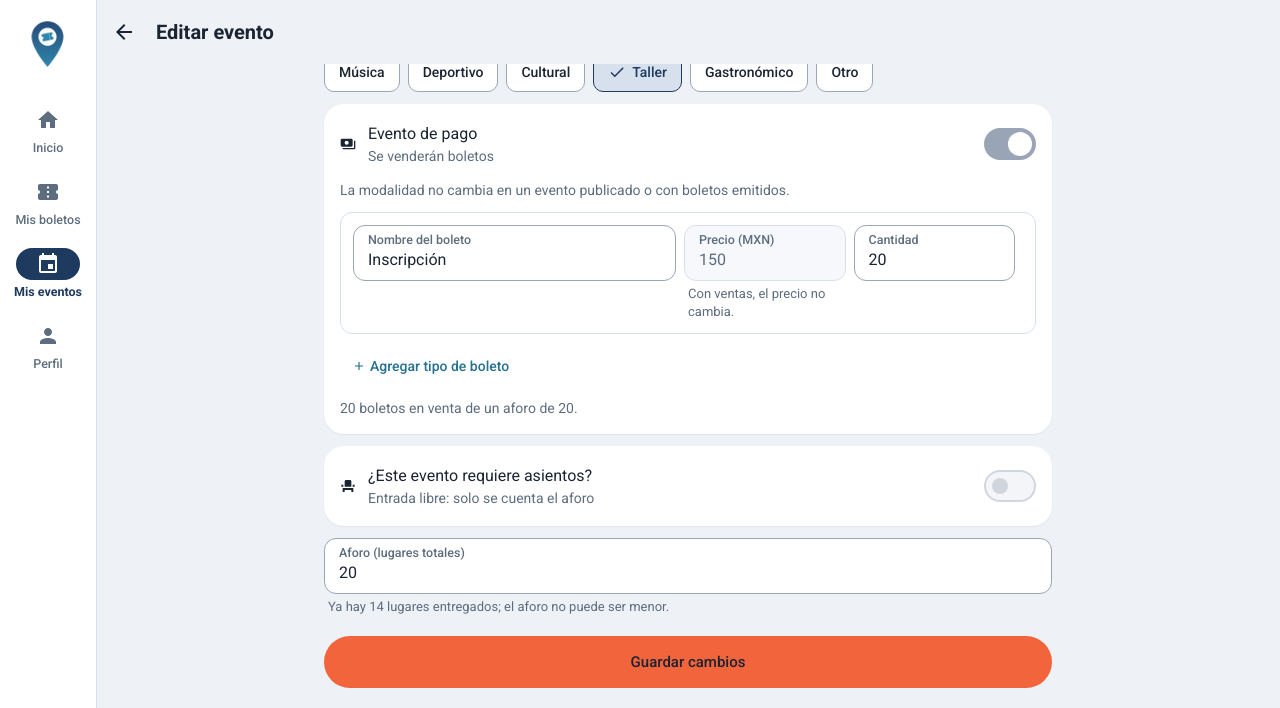
Scenario: organizador (RF-08, RF-13, RF-14, RF-17) › CP-15: no permite reducir el aforo por debajo de lo vendido
(page scrolled)
Clear the field labelled "Aforo (lugares totales)". click: coordinates (688, 566)
box: x1=325 y1=539 x2=1051 y2=593
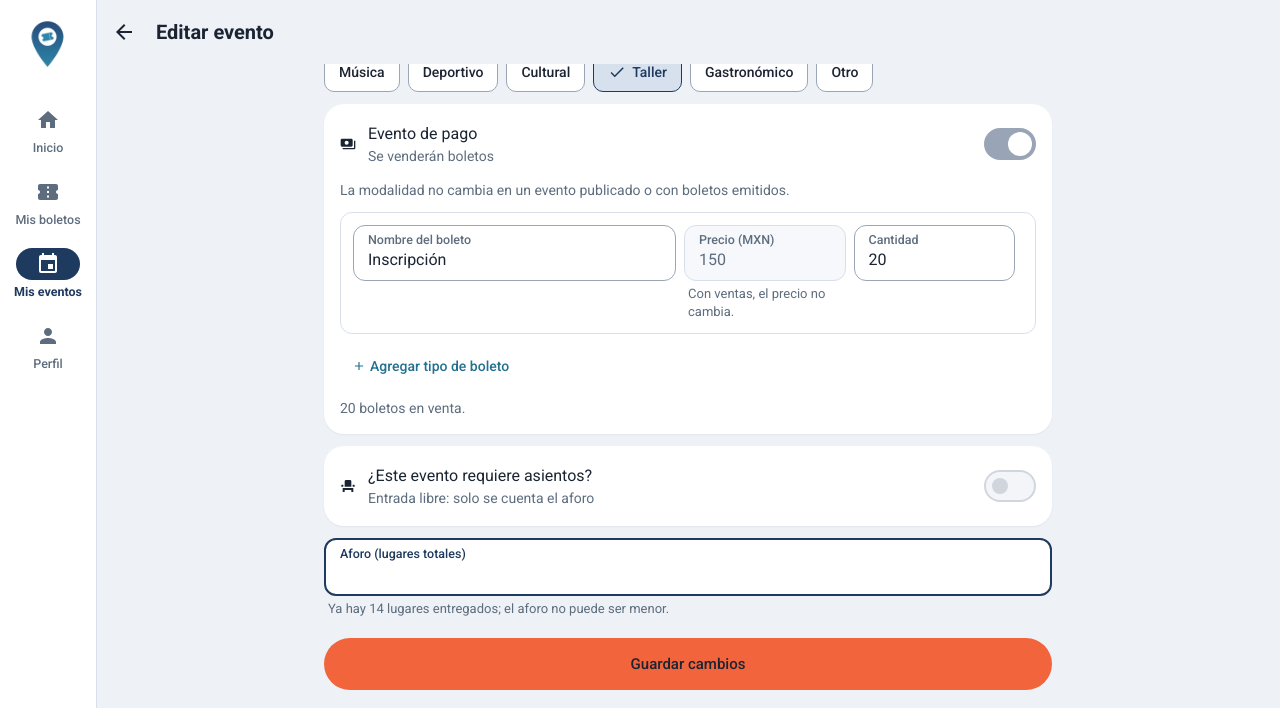
Type "5" into the field labelled "Aforo (lugares totales)". click: coordinates (688, 567)
box: x1=326 y1=540 x2=1050 y2=594
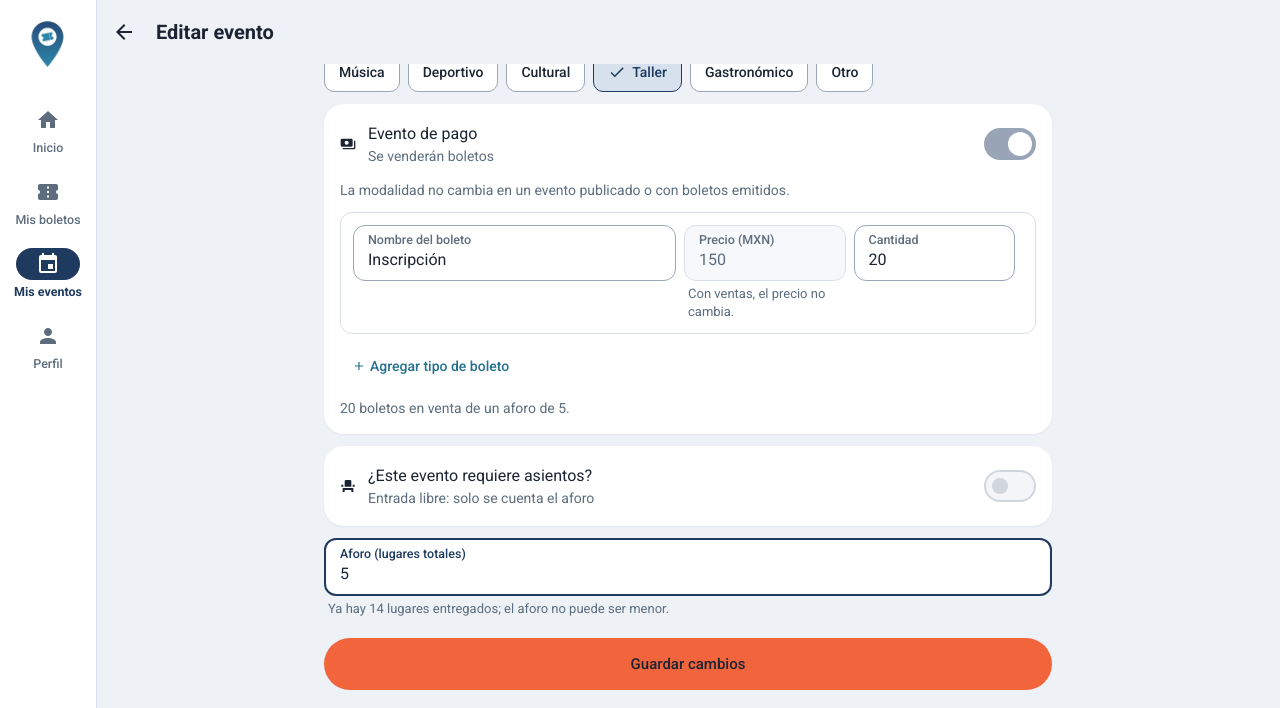
Click the button "Guardar cambios". click: coordinates (688, 664)
box: x1=324 y1=638 x2=1052 y2=690
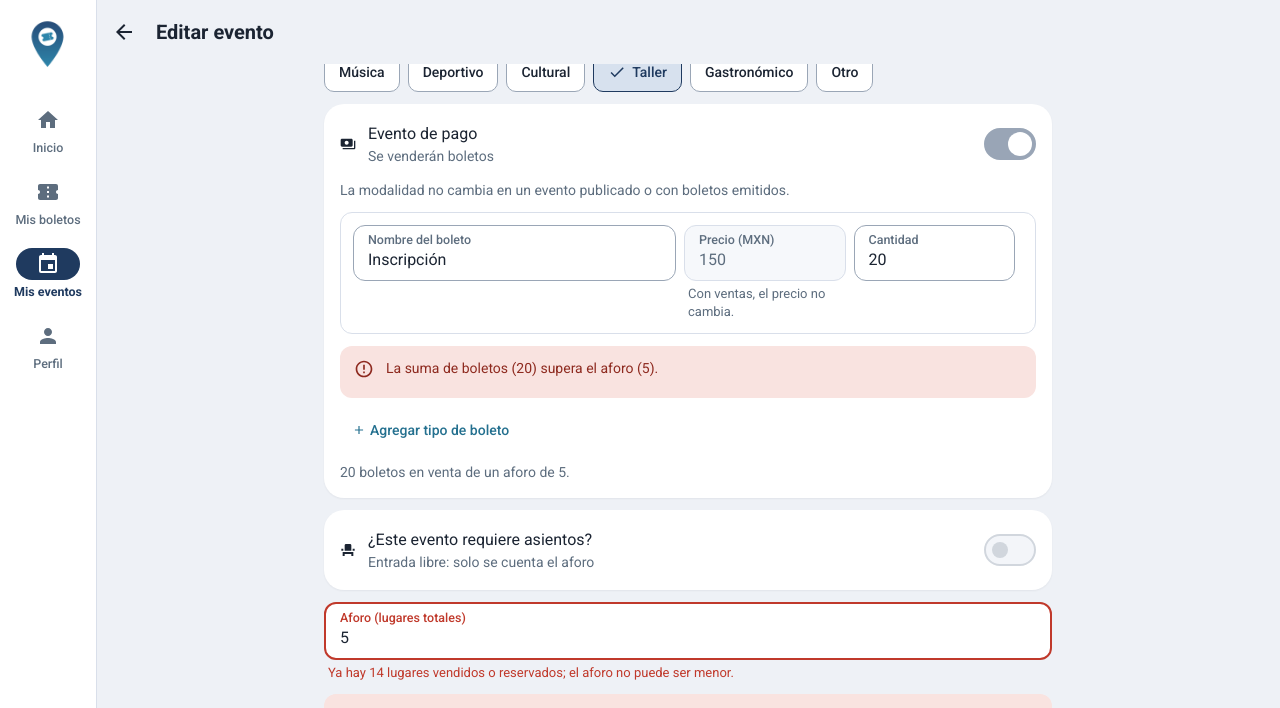
Expected: the text "Ya hay 14 lugares vendidos o reservados; el aforo no puede ser menor." is shown, x1=328 y1=665 x2=734 y2=680
